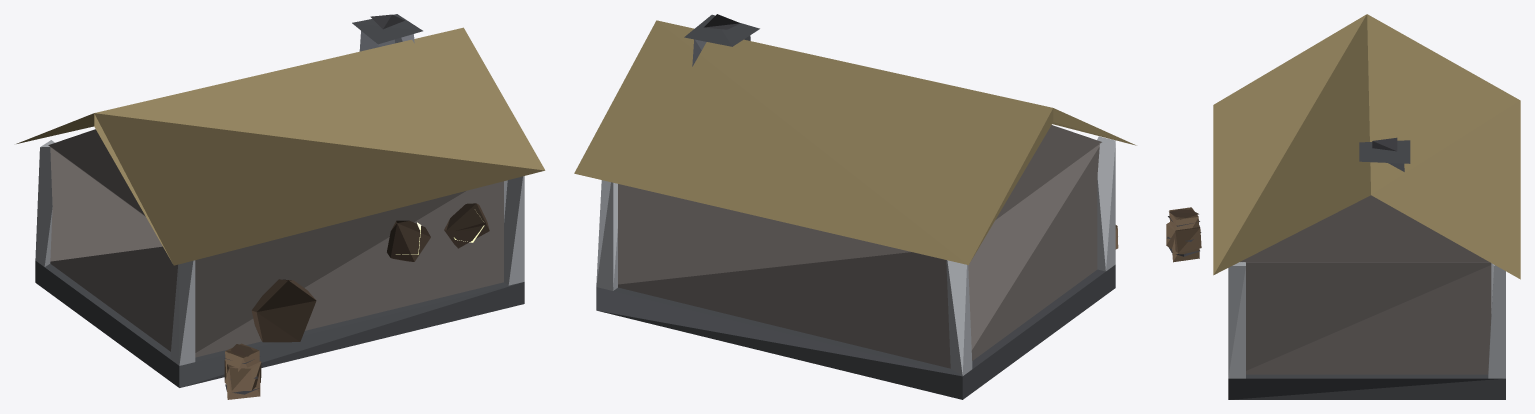
Rendered from bree_house_hobbit_2_lod1.glb.
3 renders of one model, left to right at view 1: azimuth 30°, elevation 25°; view 2: azimuth 150°, elevation 25°; view 3: azimuth 270°, elevation 25°, orthographic. The views are drawn at different scales.
Parts seen in each view (by area): view 1: bree_house_hobbit_2_lod1; view 2: bree_house_hobbit_2_lod1; view 3: bree_house_hobbit_2_lod1.
Boxes of the visible parts, bbox=[...] form: bree_house_hobbit_2_lod1: bbox=[16, 14, 545, 399]; bree_house_hobbit_2_lod1: bbox=[574, 14, 1136, 399]; bree_house_hobbit_2_lod1: bbox=[1166, 14, 1520, 399].
Bounding box in the file's own units: 7 × 4.31 × 6.
